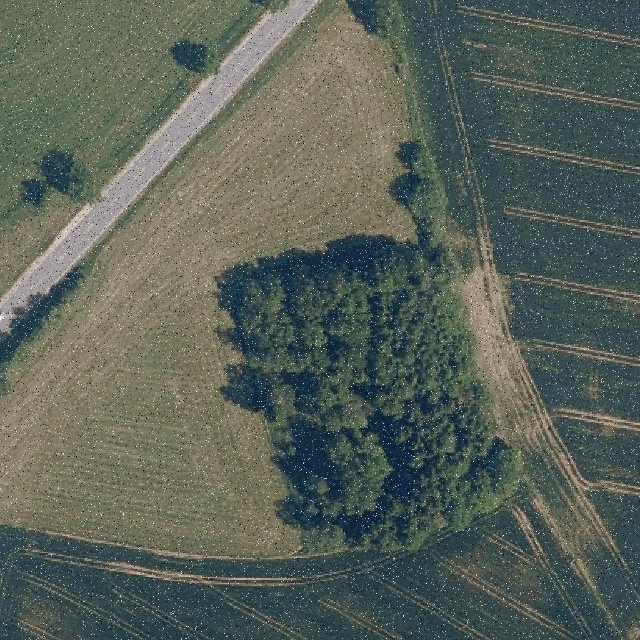vegetation: (228, 144, 521, 556), (0, 263, 90, 398), (25, 149, 101, 211), (353, 0, 409, 79), (182, 43, 220, 76), (251, 0, 290, 13)
